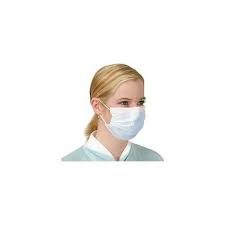mask: (46, 58, 102, 183)
